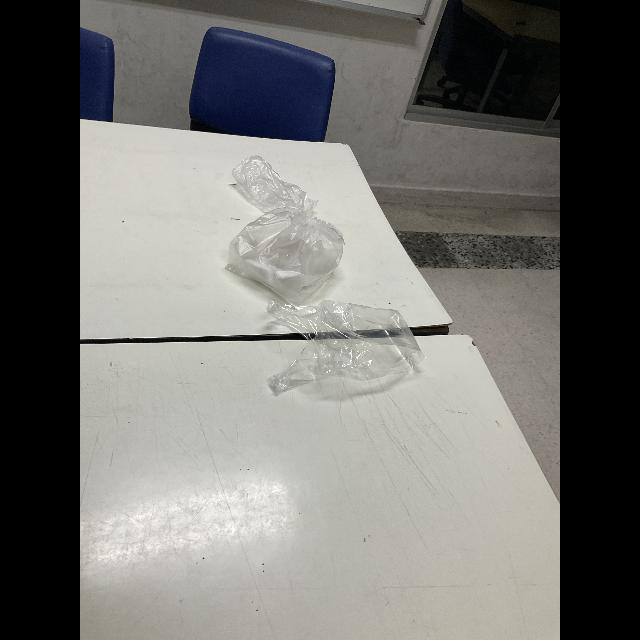plastic_bag: (252, 297, 426, 395), (224, 212, 356, 296), (223, 144, 323, 216)
